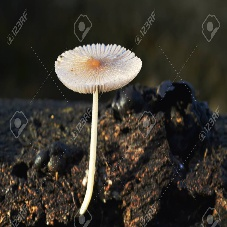mushroom: (55, 46, 144, 214)
